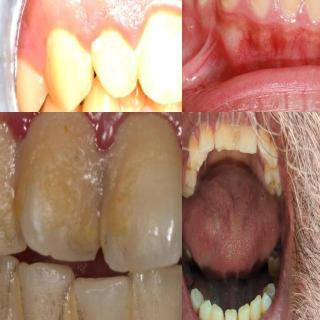Gum Swelling: (225, 0, 262, 24), (295, 0, 320, 34), (266, 0, 293, 29)
calculus: (103, 112, 182, 256), (22, 112, 98, 256), (21, 270, 75, 320), (0, 126, 17, 240), (75, 297, 148, 320), (0, 269, 16, 320)
maligned: (20, 112, 106, 266), (0, 129, 27, 251), (75, 265, 133, 320)
plaque: (45, 27, 91, 99), (92, 22, 138, 92), (275, 0, 303, 20), (243, 0, 273, 18), (300, 0, 320, 21), (120, 95, 144, 112), (160, 103, 182, 112)
stains: (49, 279, 96, 320), (0, 262, 33, 320), (114, 296, 158, 320), (258, 301, 268, 319), (204, 312, 216, 320)
